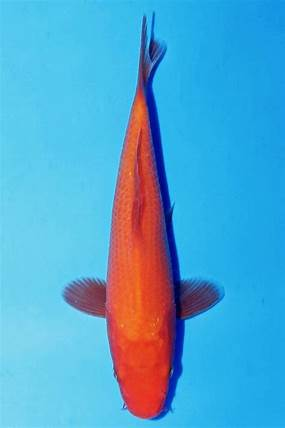red: (62, 14, 223, 419)
